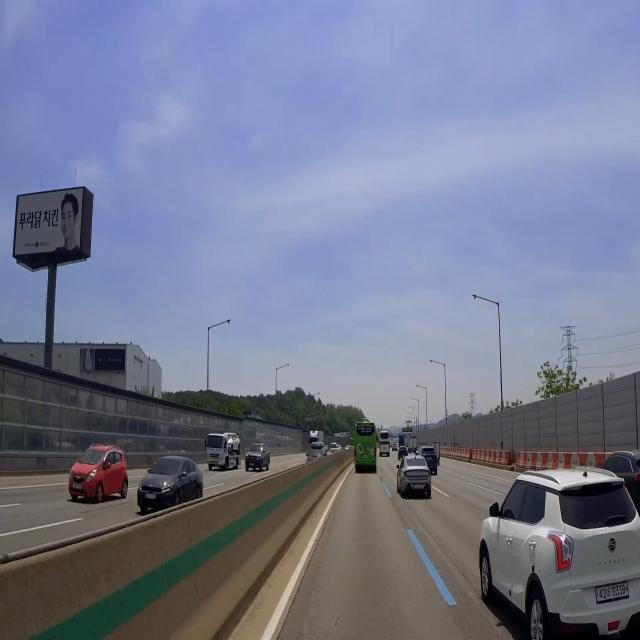car: (590, 582, 633, 604), (360, 451, 370, 468), (145, 490, 158, 503), (413, 481, 427, 493), (70, 482, 85, 493), (248, 461, 257, 473), (425, 456, 434, 464)
